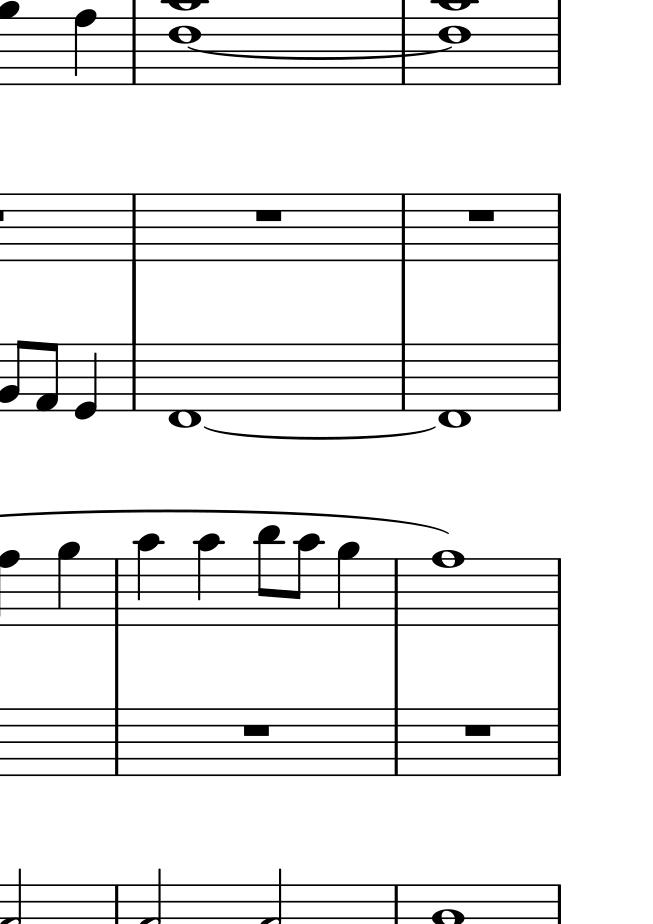1_-1: (167, 339, 203, 431), (438, 341, 474, 431)
1_6: (168, 16, 205, 88), (438, 15, 474, 89)
1_8: (431, 547, 466, 628)
4_0: (72, 340, 100, 421)
4_10: (134, 532, 165, 629), (195, 532, 224, 630)
4_8: (73, 8, 100, 87)
4_9: (334, 540, 364, 627), (57, 541, 82, 629)
8_1: (33, 342, 61, 413)
8_10: (289, 532, 325, 627)
8_11: (255, 523, 282, 629)
8_2: (1, 338, 25, 413)
Rests1: (252, 204, 284, 226), (459, 721, 497, 738), (465, 208, 499, 225), (240, 722, 273, 738)
Single_barline: (547, 1, 567, 84), (547, 344, 566, 411), (108, 560, 127, 626), (387, 558, 405, 627), (394, 344, 412, 411), (395, 17, 412, 86), (549, 560, 567, 625), (387, 710, 404, 776), (549, 709, 566, 775), (126, 343, 142, 412), (126, 193, 142, 261), (108, 709, 124, 776), (126, 17, 142, 84), (395, 194, 411, 261), (550, 194, 566, 261)
Slur: (185, 44, 454, 60), (204, 425, 441, 439)
